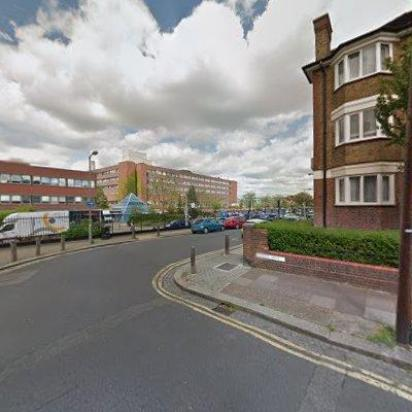stationary-car-offstreet: (166, 218, 191, 230)
stationary-car-onstreet: (190, 217, 226, 233), (241, 219, 269, 237), (223, 215, 245, 229), (283, 212, 297, 220)
stationary-heavy-truck-offstreet: (0, 210, 70, 242), (102, 210, 112, 222)
